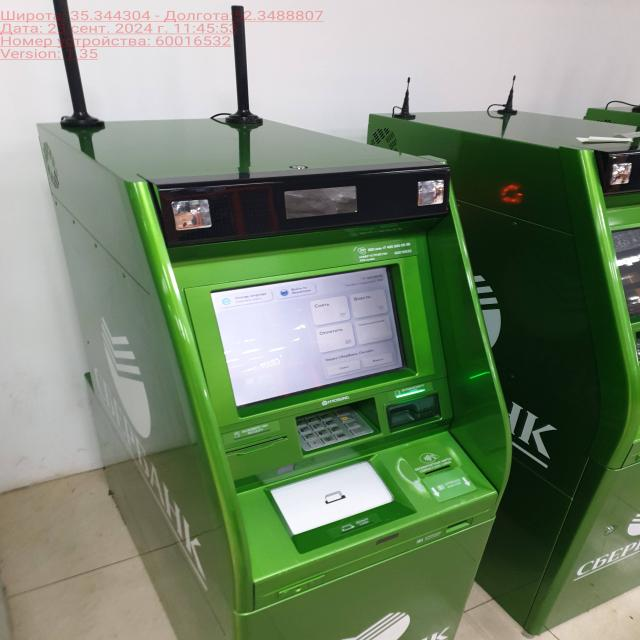bank: (39, 115, 511, 640), (368, 116, 640, 626)
